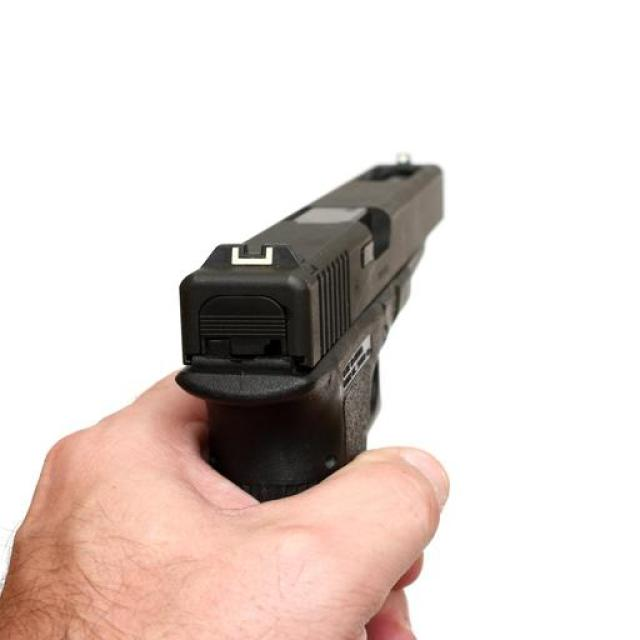pistol: (171, 145, 446, 509)
